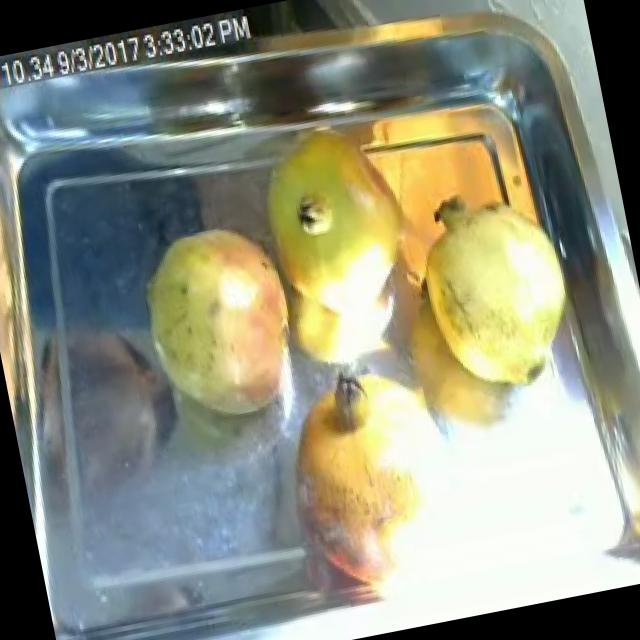fruit: (255, 338, 492, 614), (116, 192, 323, 449), (392, 168, 600, 414), (232, 101, 430, 318)
